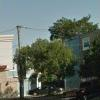Tree: (18, 15, 78, 86)
